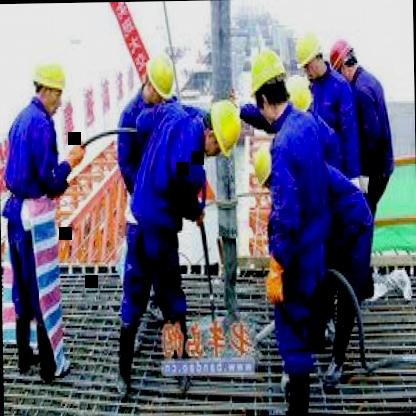helmet: (248, 42, 291, 121), (202, 95, 244, 160), (30, 52, 68, 114), (142, 46, 179, 106), (294, 26, 326, 83), (326, 36, 358, 80), (253, 144, 279, 190)
